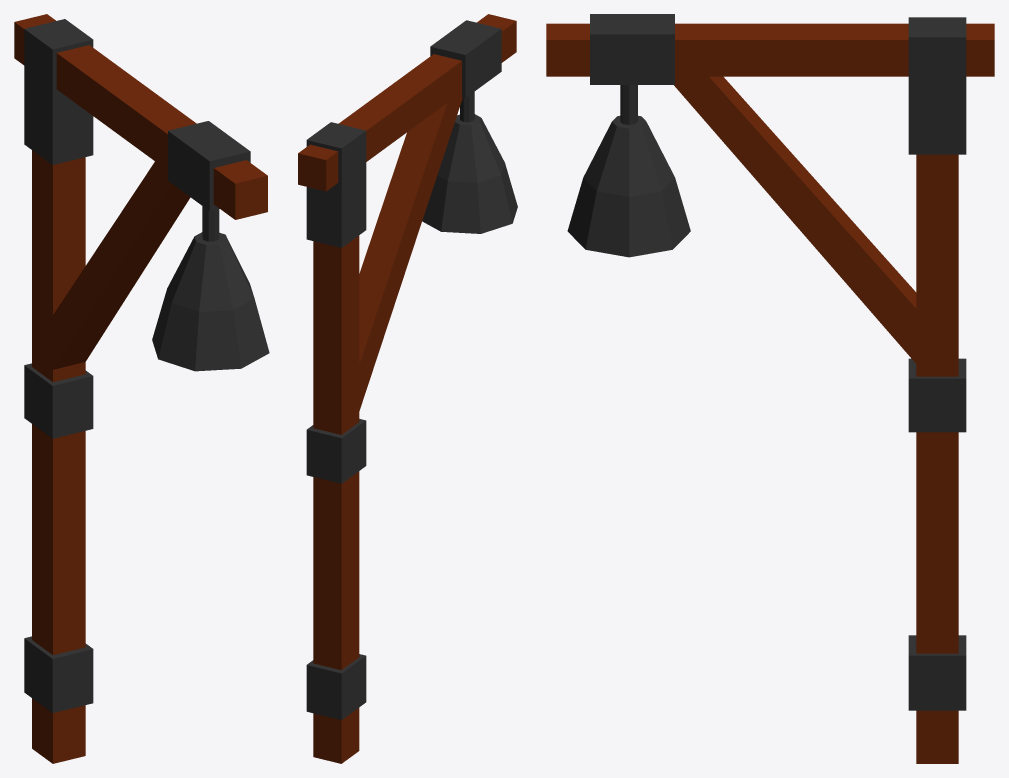
Rendered from streetlight.FBX.
The picture shows the model from 3 angles, left to right: view 1: azimuth 30°, elevation 25°; view 2: azimuth 150°, elevation 25°; view 3: azimuth 270°, elevation 25°; orthographic projection. The views are drawn at different scales.
Parts seen in each view (by area): view 1: streetlight; view 2: streetlight; view 3: streetlight.
Part boxes in pixels (x1,y1,x2,y2): streetlight: [14, 14, 269, 763]; streetlight: [298, 14, 517, 763]; streetlight: [546, 14, 994, 763].
Bounding box in the file's own units: 0.5436 × 3.55 × 1.97.
Materials: 1 (1 with a texture image).
